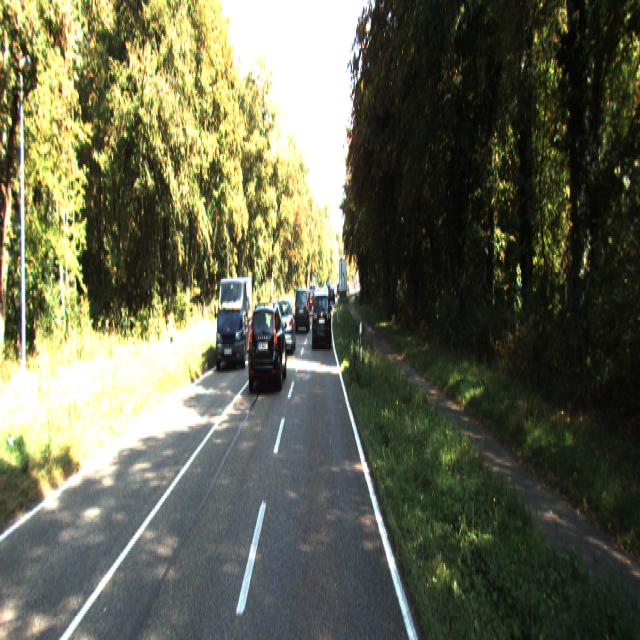Car: (246, 297, 287, 393), (215, 274, 254, 368), (274, 296, 296, 354), (312, 290, 331, 348), (293, 285, 309, 329)
